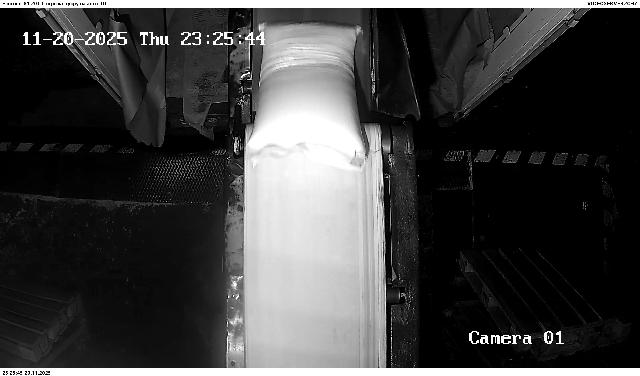bag: (247, 21, 367, 161)
